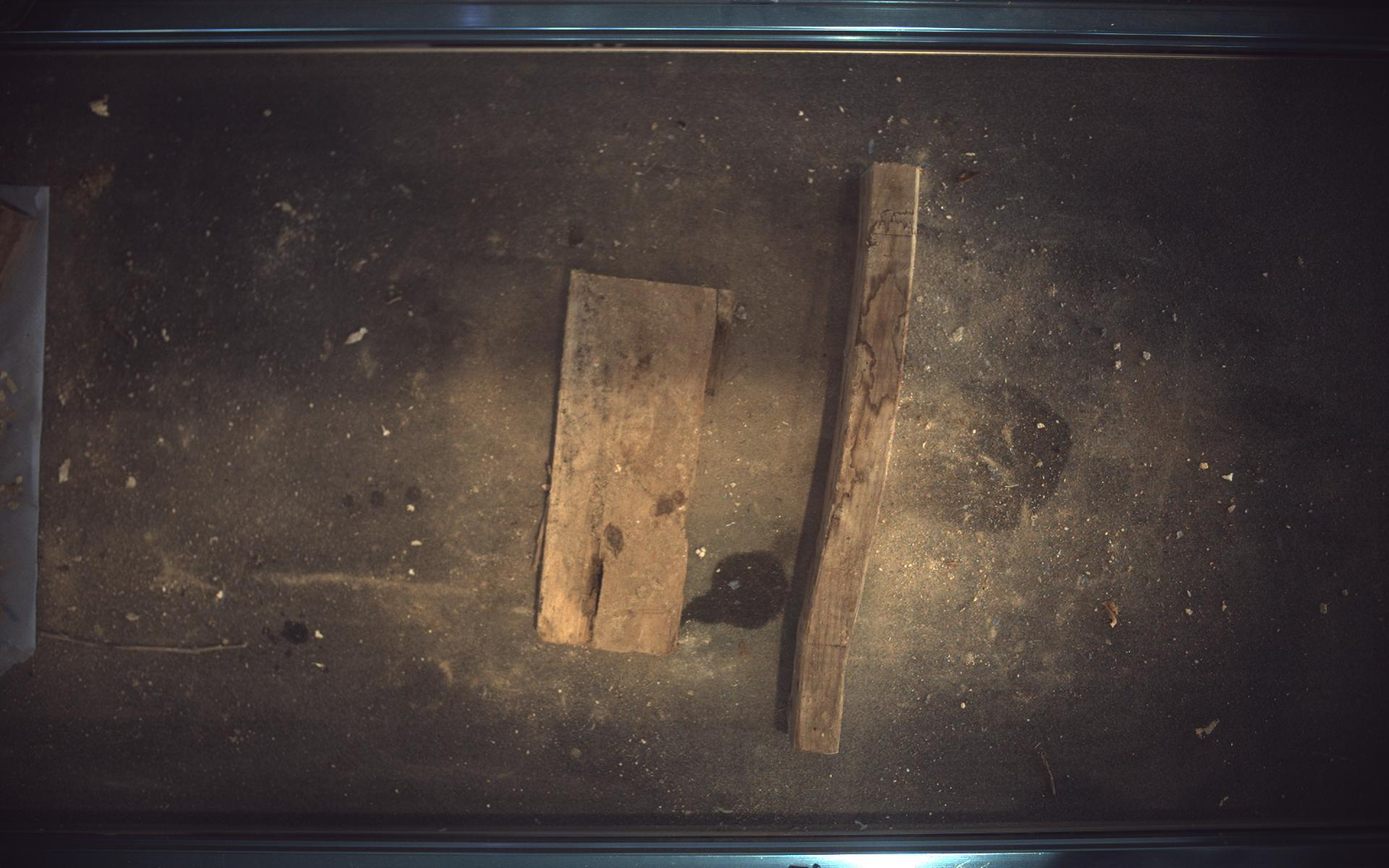wood: (791, 162, 922, 756), (538, 270, 736, 655)
